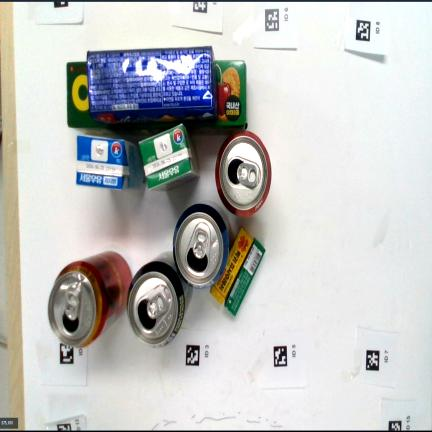can_coke_decaf: (48, 251, 132, 346)
can_coke_zero: (216, 132, 271, 216)
can_pepsi: (173, 201, 230, 288)
can_pepsi_zero: (127, 251, 192, 346)
cracker_ace: (87, 46, 217, 124)
cracker_vege: (215, 61, 249, 135), (66, 61, 95, 136)
gum_green: (225, 240, 265, 316)
gum_yellow: (210, 228, 252, 304)
milk_blue: (76, 135, 145, 189)
milk_green: (139, 124, 199, 190)
